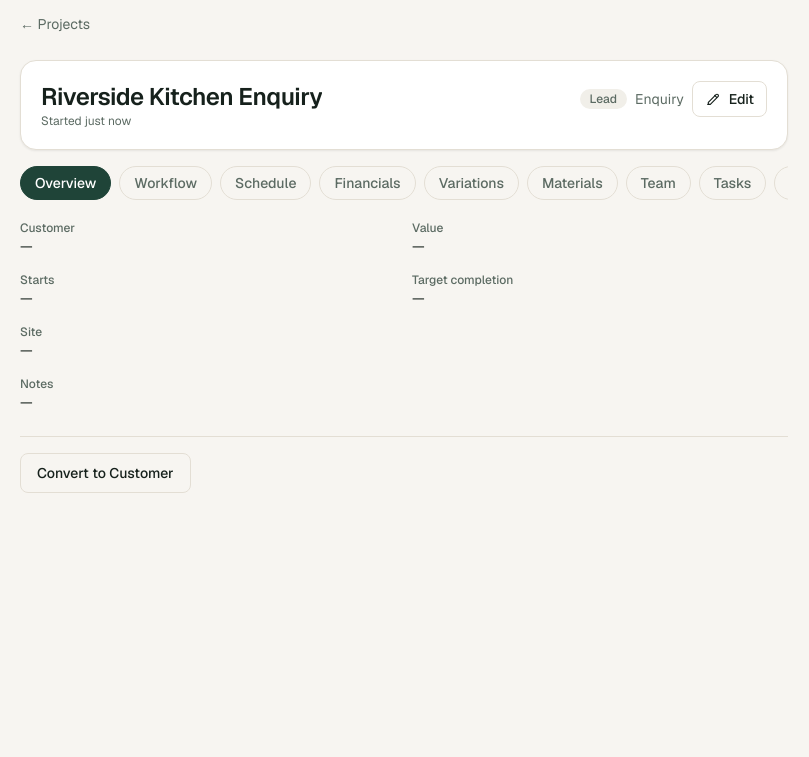
Test: ProjectDetailPage — enquiry conversion (Sprint 021) › lets_owner_or_staff_convert_an_unlinked_enquiry_into_a_customer
This screenshot has width=809, height=757.
Step 1. Click the button "Convert to Customer" → (105, 473), box [20,453,191,493]
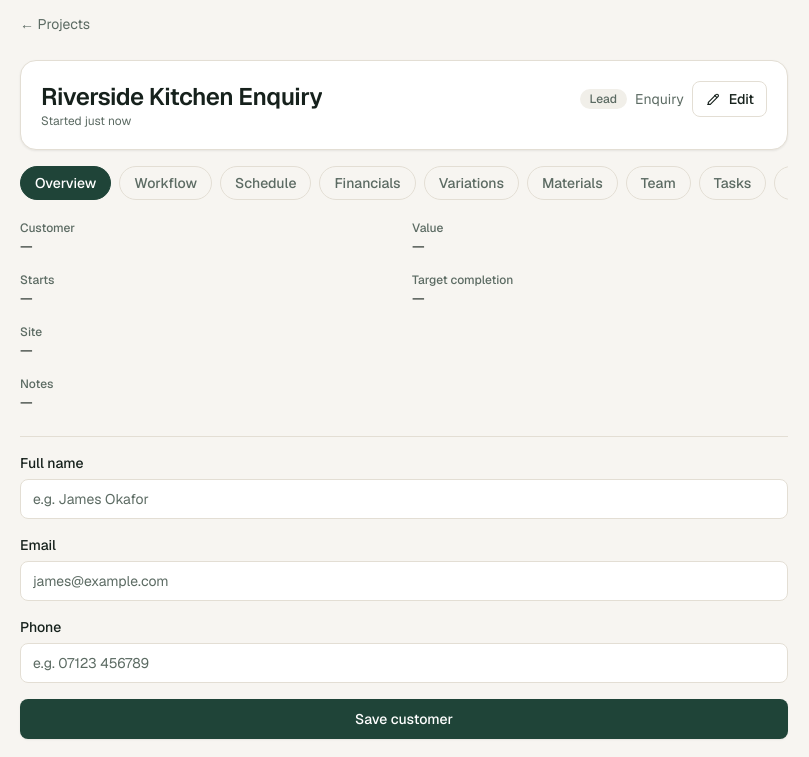
Step 2. Type "Jane Okafor" into the field labelled "Full name" → (404, 499), box [20,479,788,519]
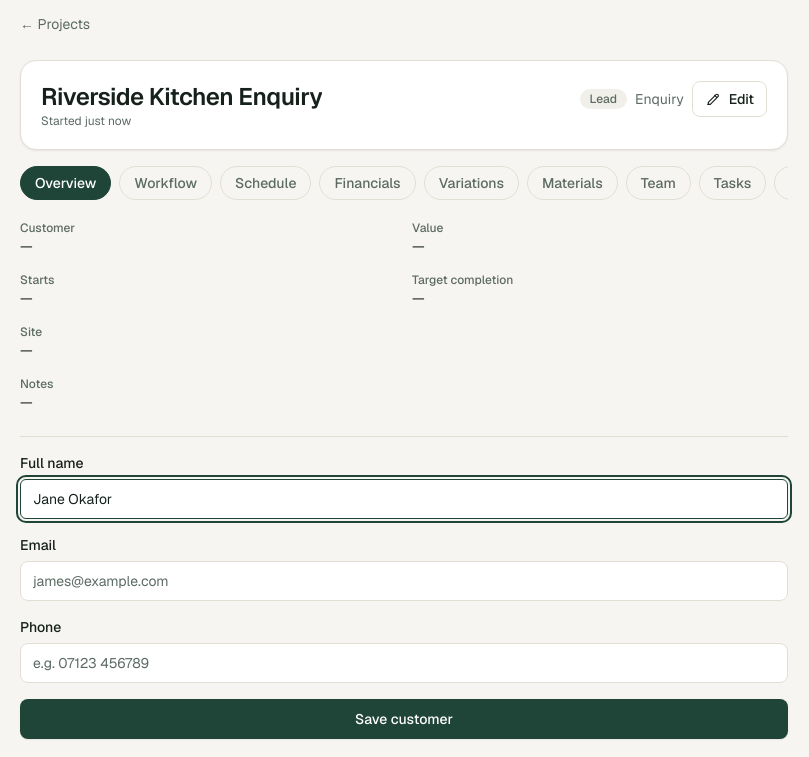
Step 3. Type "jane@example.com" into the field labelled "Email" → (404, 581), box [20,561,788,601]
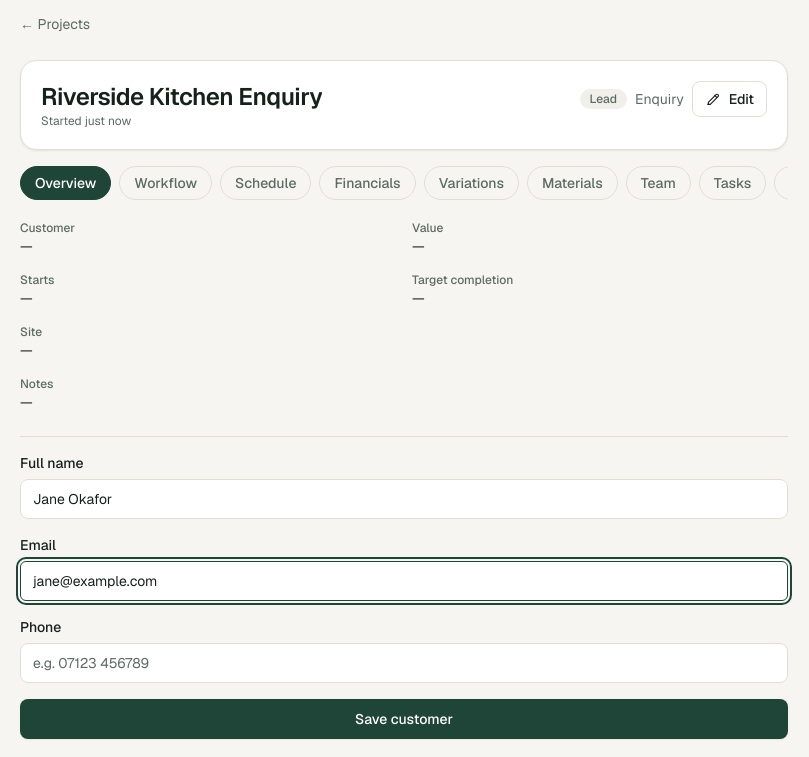
Step 4. Type "07123 456789" into the field labelled "Phone" → (404, 663), box [20,643,788,683]
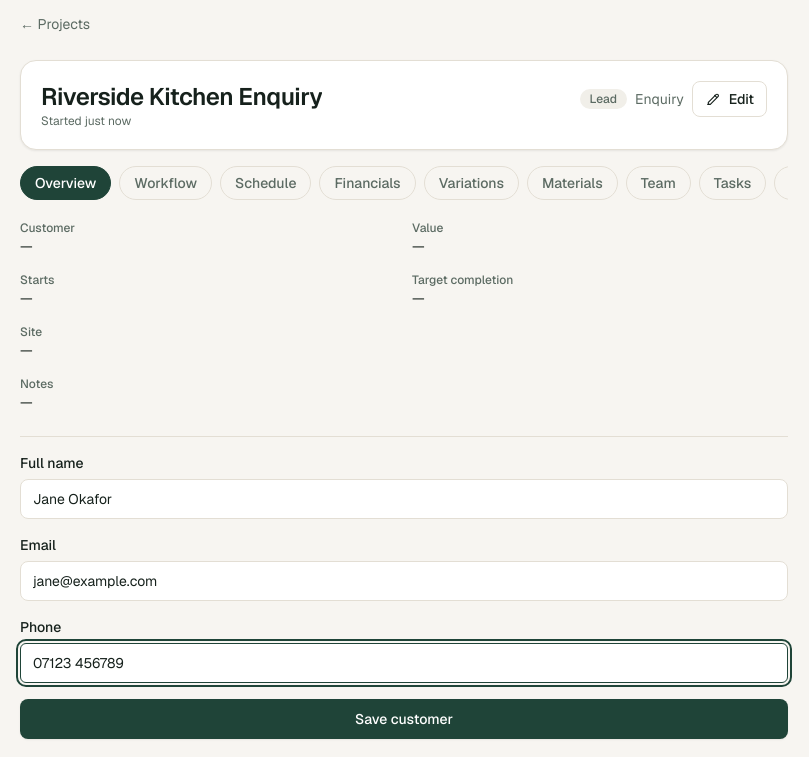
Step 5. Click the button "Save customer" → (404, 719), box [20,699,788,739]
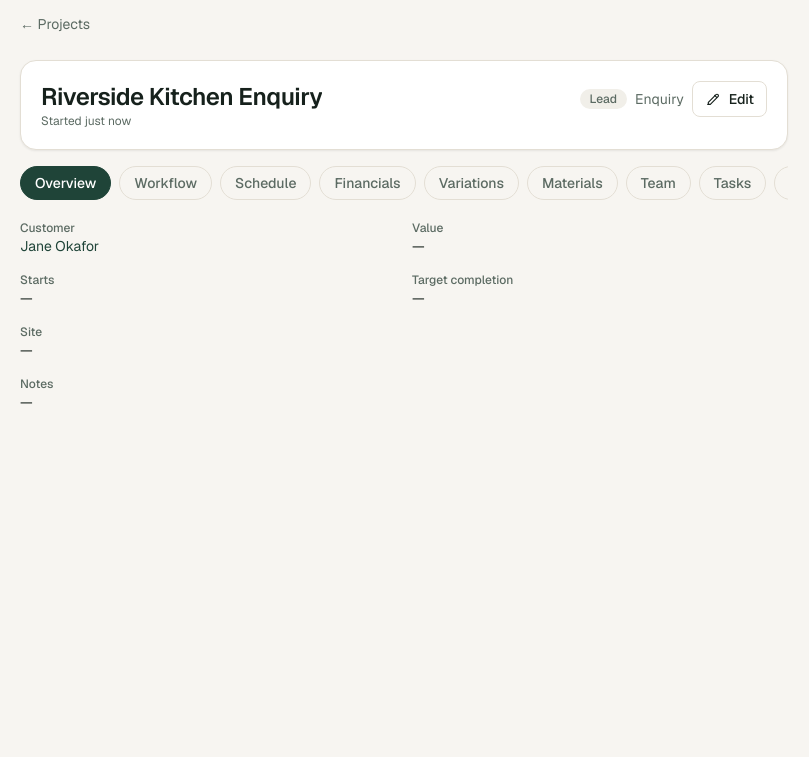
Check: the button "Convert to Customer" is not shown
Check: the link "Jane Okafor" is shown, box [20,237,99,255]
